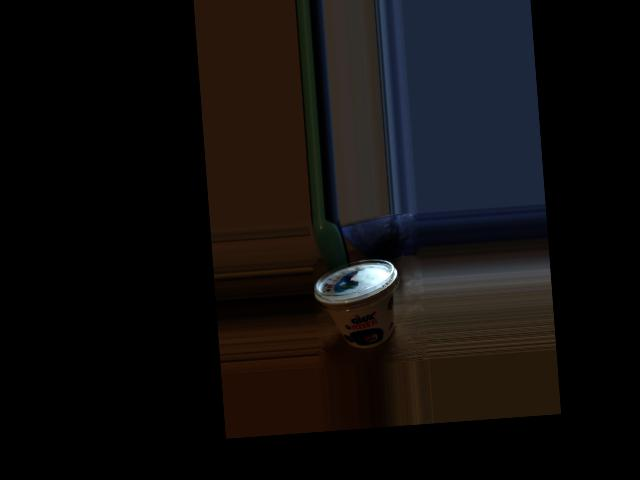cotage: (321, 257, 397, 344)
